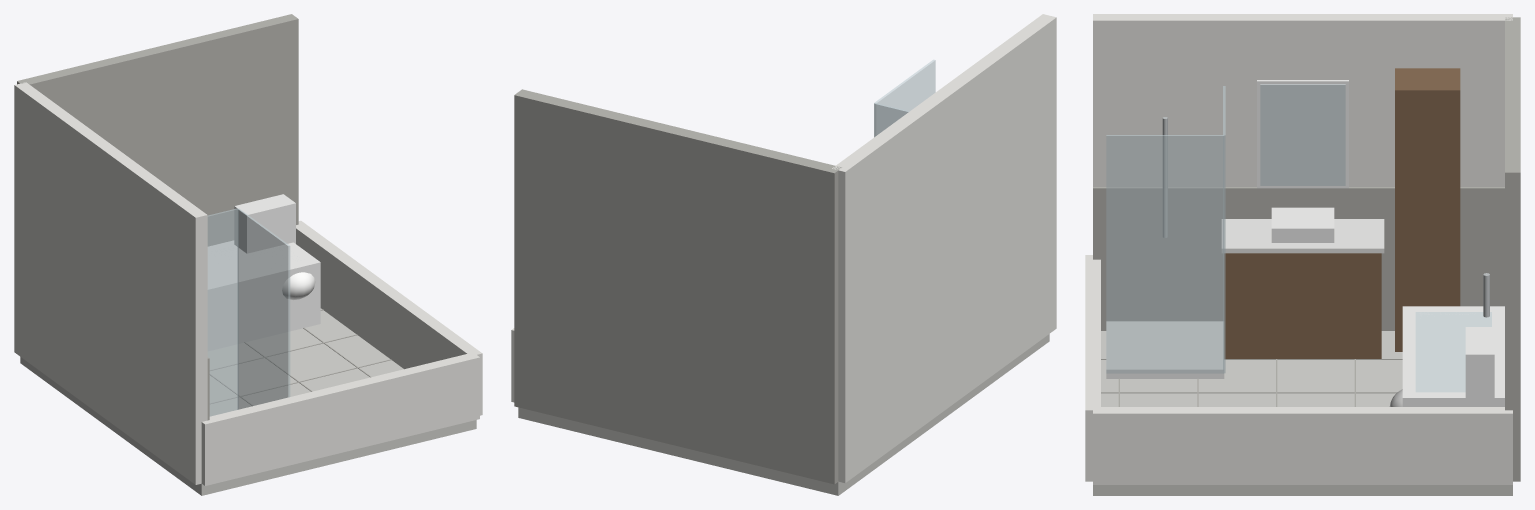
File: bathroom-v1.glb
3 renders of one model, left to right at view 1: azimuth 30°, elevation 25°; view 2: azimuth 150°, elevation 25°; view 3: azimuth 270°, elevation 25°, orthographic. The views are drawn at different scales.
Parts seen in each view (by area): view 1: left wall, back tiled wall, front low wall, shower glass (×2), tile floor, right low wall, freestanding tub, toilet tank, toilet bowl; view 2: back tiled wall, left wall, tile floor, shower glass (×2); view 3: left wall, right low wall, shower glass (×2), left tile band, tile floor, vanity, tall cabinet, led mirror, freestanding tub, back tiled wall, shower base, tub interior (+7 smaller).
Part boxes in pixels (<box>): left wall: <box>14,82,207,484</box>; back tiled wall: <box>17,14,298,246</box>; front low wall: <box>201,352,479,485</box>; shower glass (×2): <box>207,208,290,416</box>; tile floor: <box>20,308,476,495</box>; right low wall: <box>296,220,482,415</box>; freestanding tub: <box>207,240,320,351</box>; toilet tank: <box>234,194,295,253</box>; toilet bowl: <box>282,272,315,300</box>; back tiled wall: <box>514,89,841,484</box>; left wall: <box>832,14,1056,483</box>; tile floor: <box>518,334,1049,495</box>; shower glass (×2): <box>874,59,935,136</box>; left wall: <box>1093,14,1512,186</box>; right low wall: <box>1093,407,1512,484</box>; shower glass (×2): <box>1106,86,1225,373</box>; left tile band: <box>1093,187,1504,330</box>; tile floor: <box>1093,331,1512,495</box>; vanity: <box>1224,253,1381,358</box>; tall cabinet: <box>1395,68,1460,351</box>; led mirror: <box>1260,84,1345,185</box>; freestanding tub: <box>1402,306,1504,406</box>; back tiled wall: <box>1505,17,1520,481</box>; shower base: <box>1106,321,1224,378</box>; tub interior: <box>1415,312,1491,392</box>.
Size of the model in its own units: 2.92 by 2.72 by 3.32.
